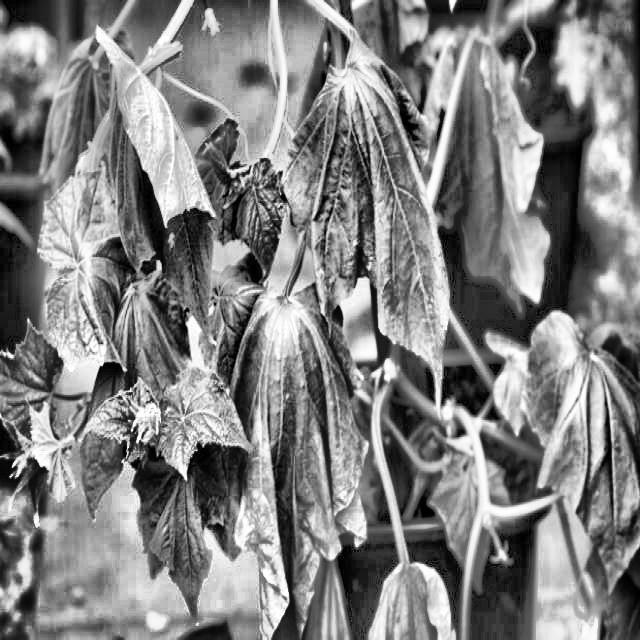plants: (50, 41, 640, 638), (296, 32, 474, 403), (219, 268, 375, 626)
